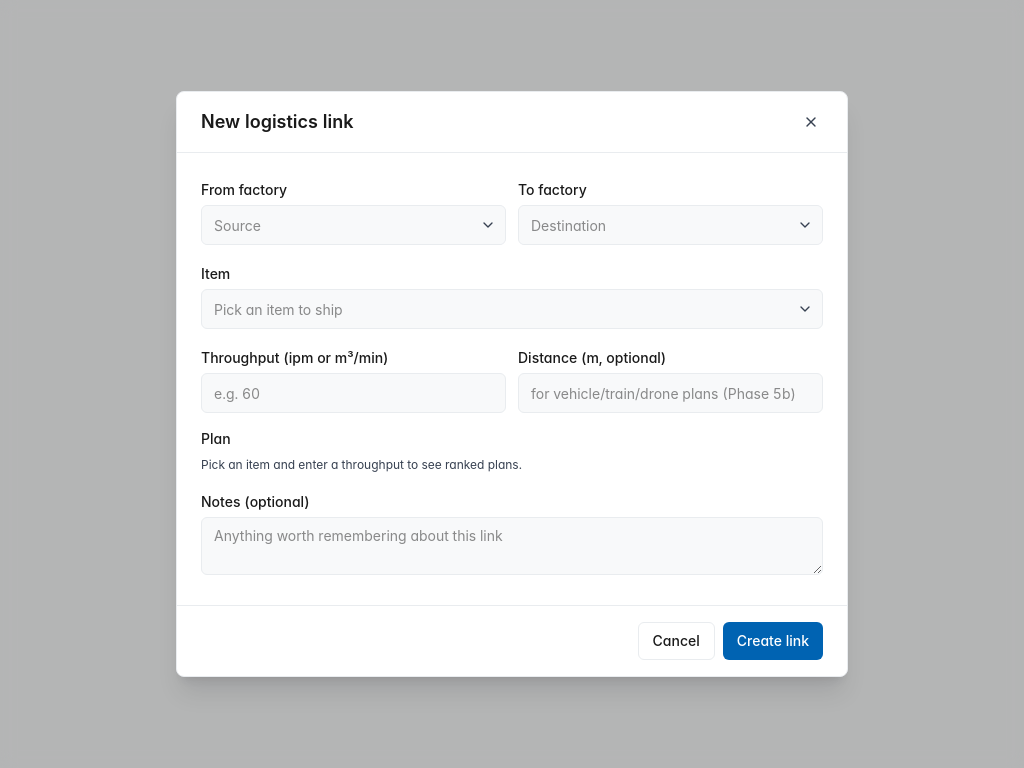
Test case: <LogisticsLinkEditor /> — item picker narrowed to the source's outputs (#61) › offers only the items the source factory produces once a source is picked
Click the dropdown labelled "From factory": (354, 225) x1=201 y1=205 x2=506 y2=245
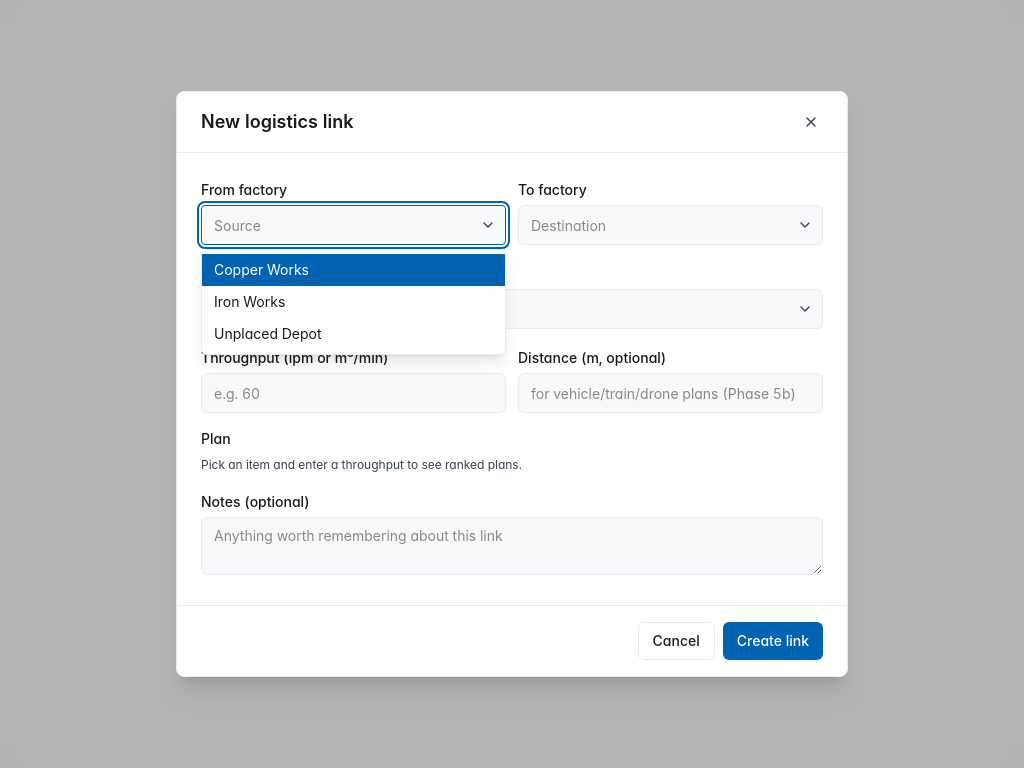
Press Arrowdown
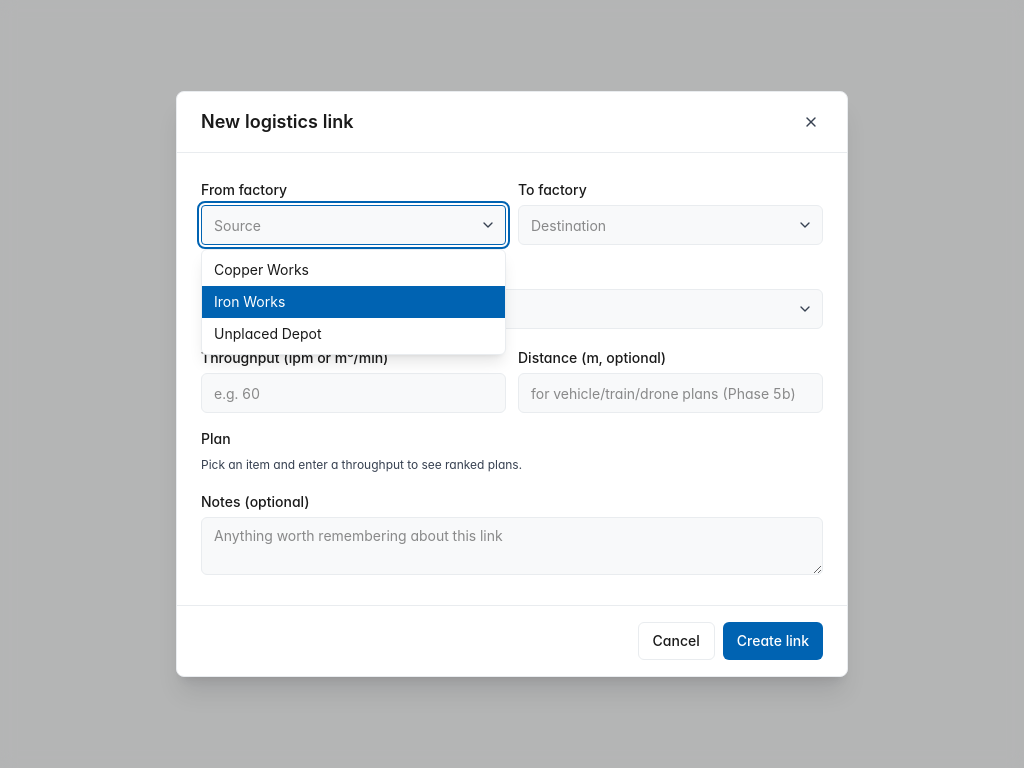
Click the option "Copper Works": (262, 270) x1=214 y1=261 x2=309 y2=278
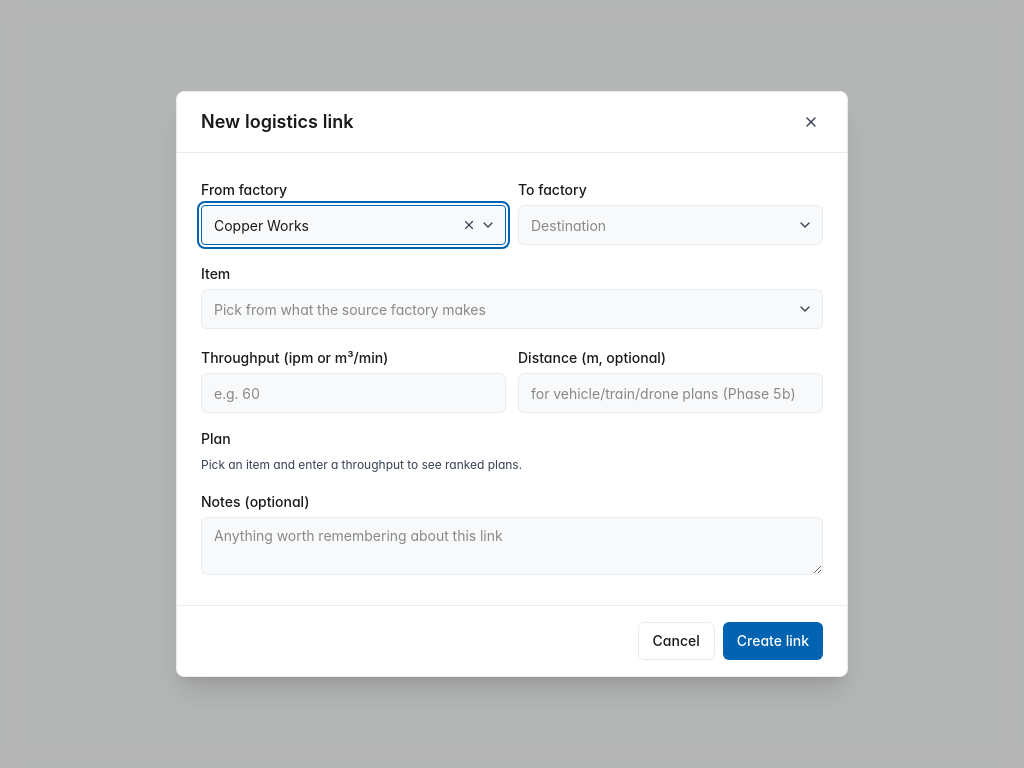
Click the dropdown labelled "Item": (512, 309) x1=201 y1=289 x2=823 y2=329
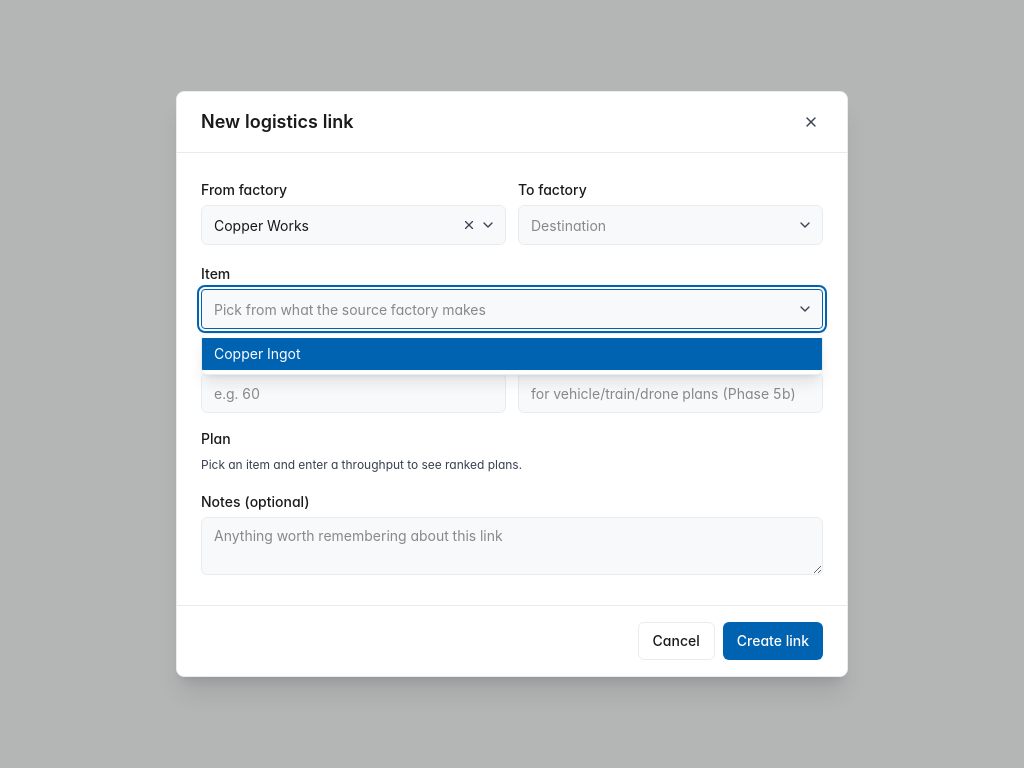
Now the option "Copper Ingot" is shown, box x1=202 y1=338 x2=822 y2=370
